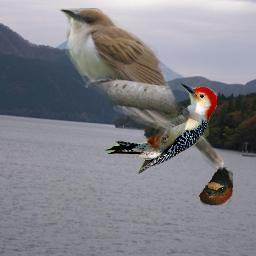Cuckoo: (59, 8, 226, 170)
Swallow: (199, 167, 233, 206)
Woodpecker: (104, 83, 217, 174)
